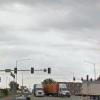Traffic light: (12, 62, 54, 78)
